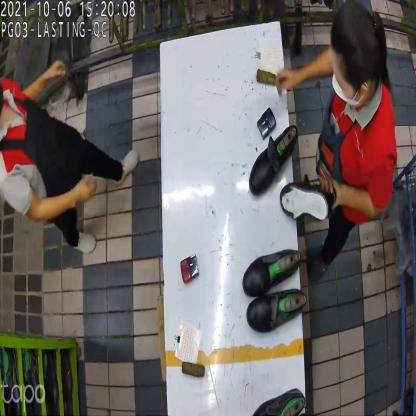shoes: (250, 126, 336, 225), (239, 248, 309, 335)
stamp: (257, 106, 276, 140), (180, 252, 200, 284)
